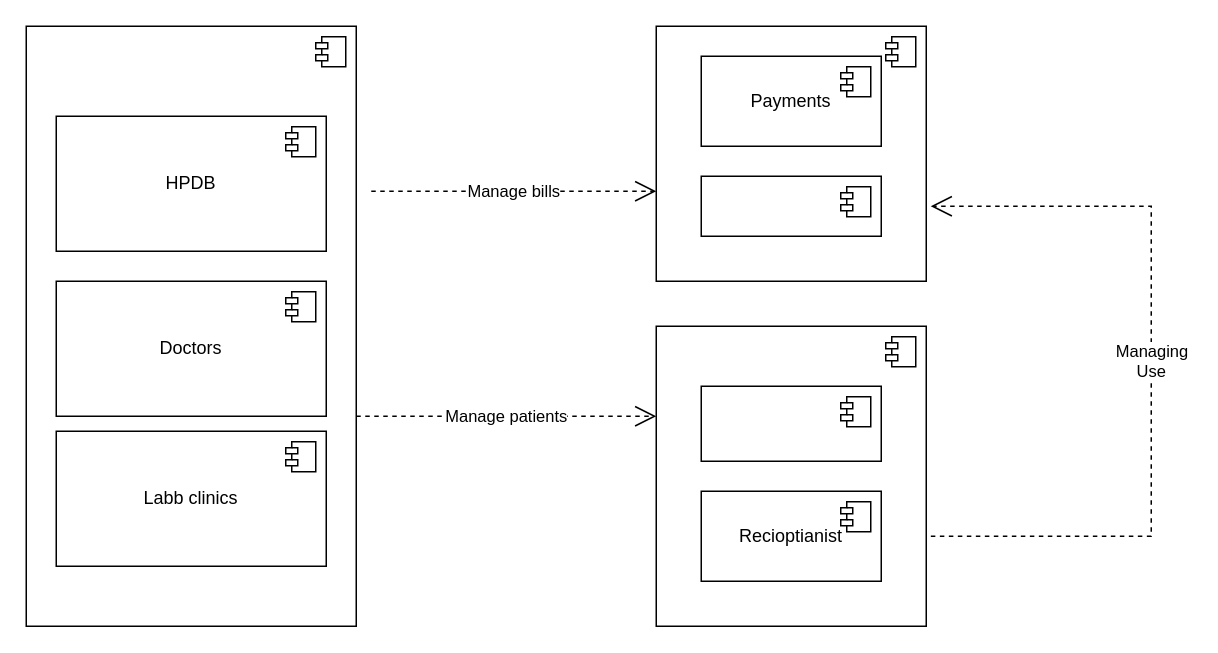
The diagram is 1218 pixels wide and 653 high, and some of its shapes have lost their labels. Here are the shapes that lost their labels. From the top down, the box of each, then its label:
(700, 175, 881, 236): Mdicines
(700, 385, 881, 461): Patients
